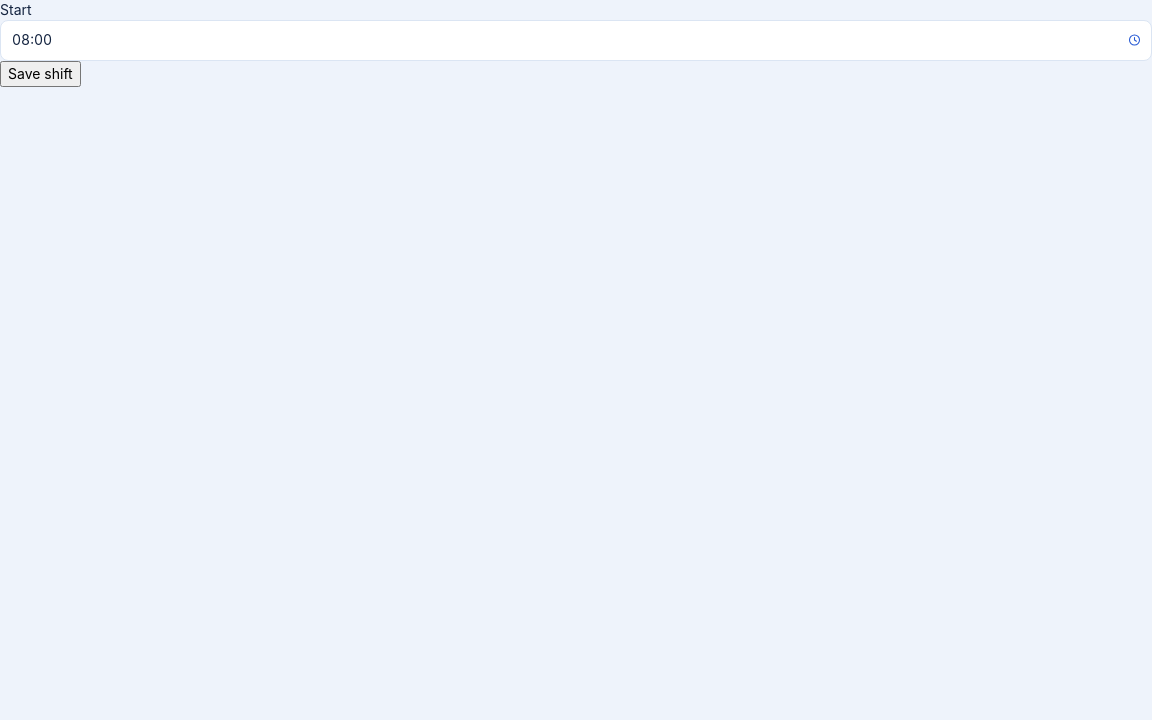
Test: themed time picker › stages an exact hour and minute using the keyboard and commits with Set time
The width and height of the screenshot is (1152, 720).
Press ArrowDown in the field labelled "Start", box [0,20,1151,61]
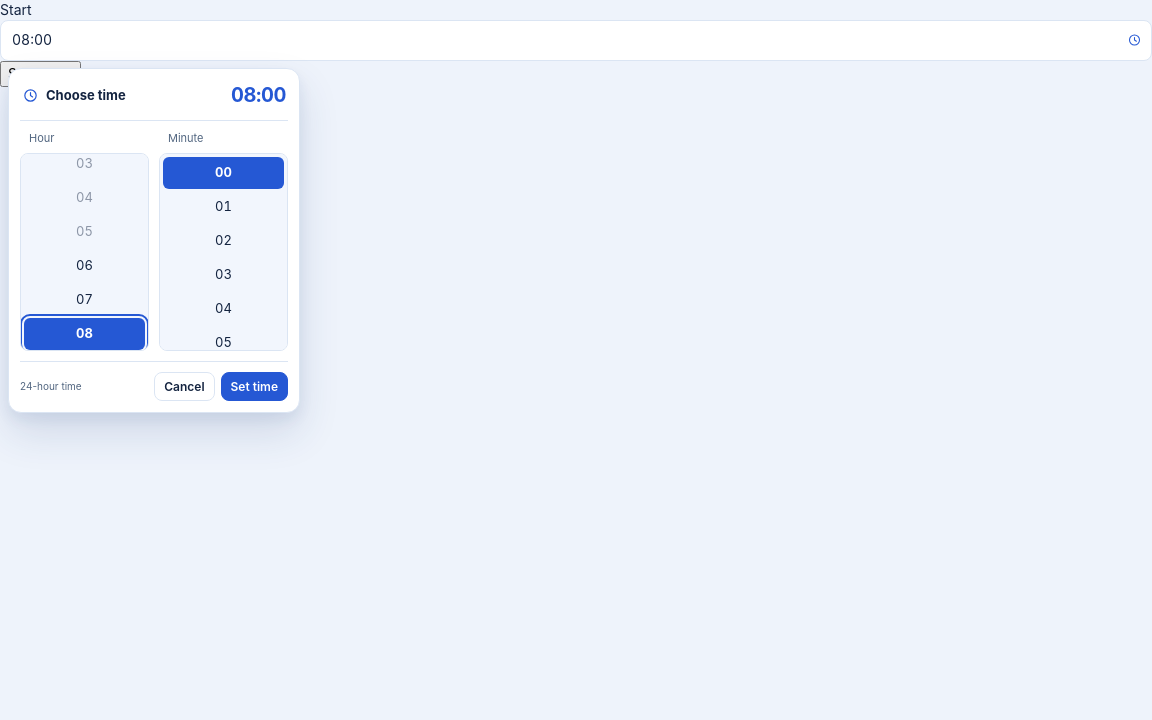
Press ArrowDown in the option "08", box [24,318,145,350]
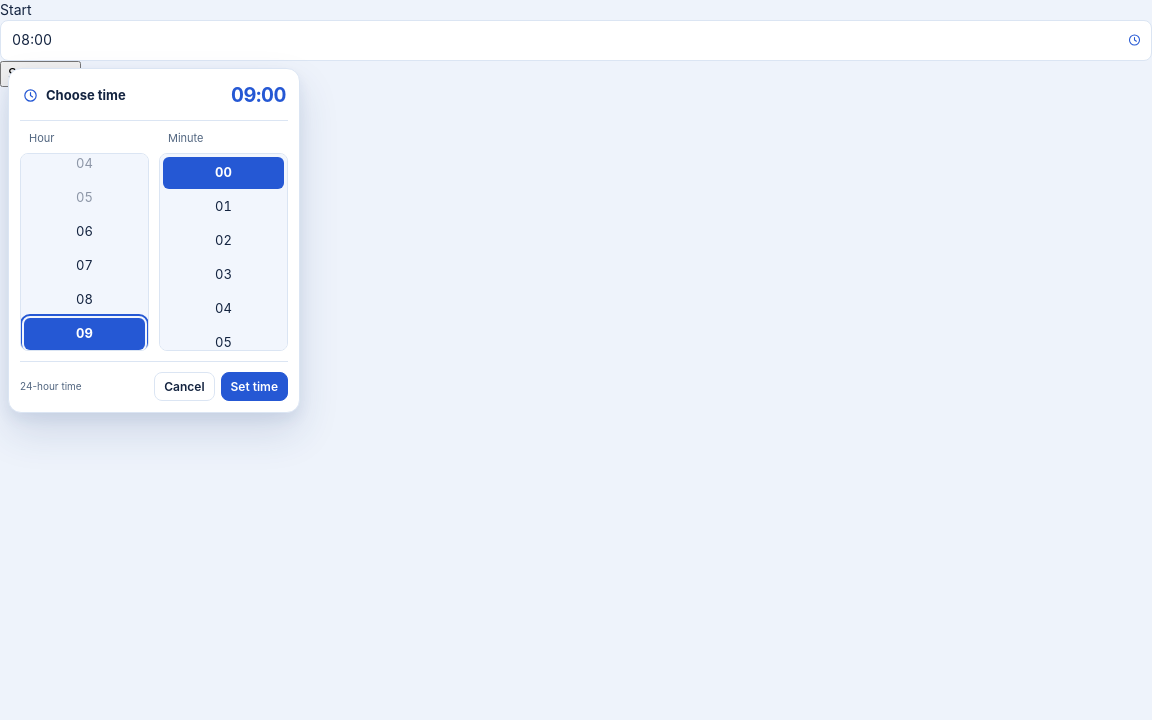
Press ArrowRight in the option "09", box [24,318,145,350]
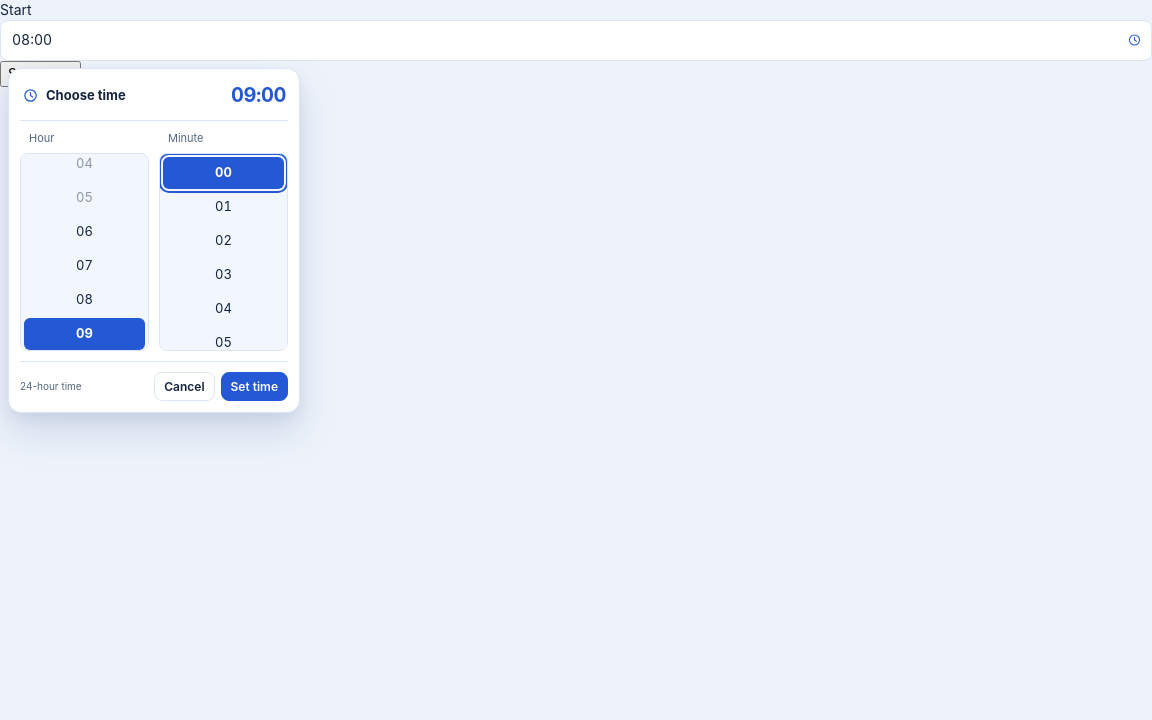
Press End in the option "00", box [163,156,284,188]
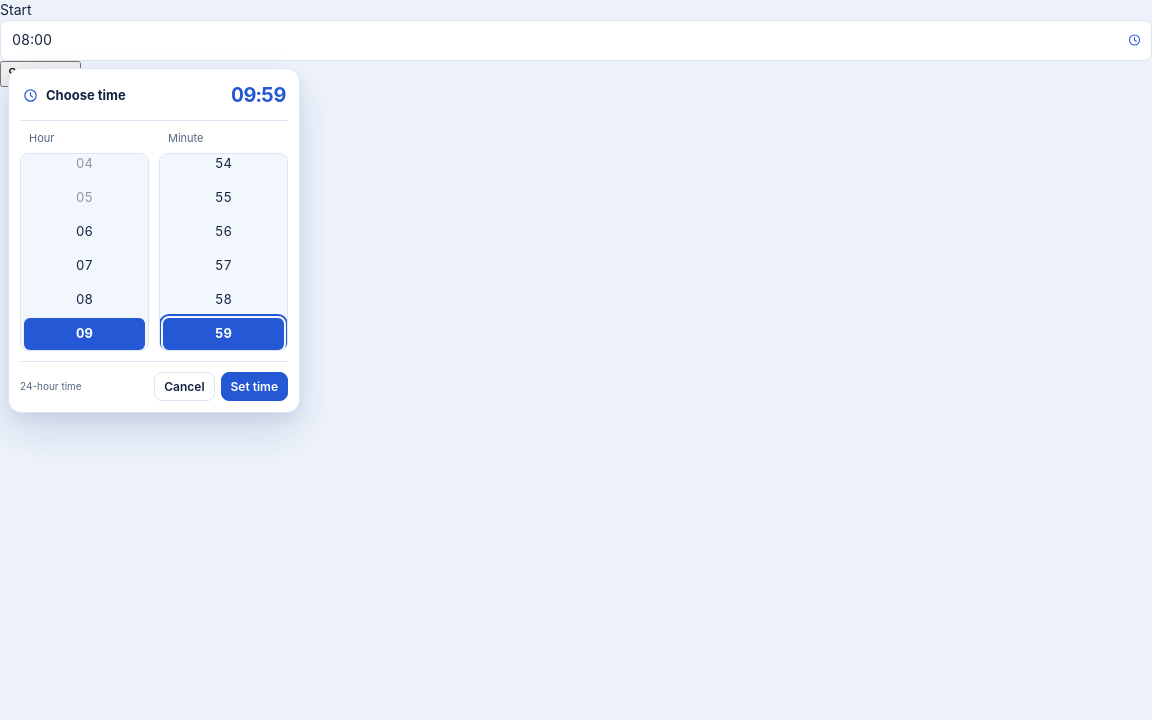
Expected: the field labelled "Start" holds "08:00", [0,20,1151,61]
Click the button "Set time" at {"x": 254, "y": 386}, box [221,372,288,401]
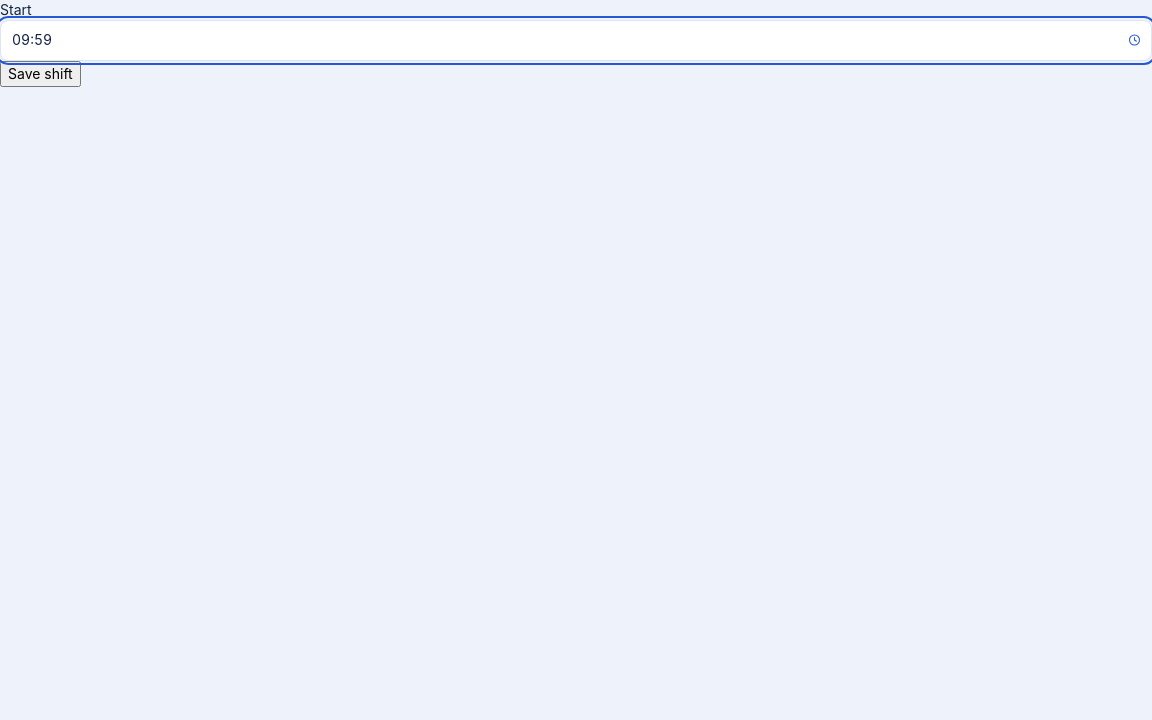
Expected: the field labelled "Start" holds "09:59", [0,20,1151,61]
Expected: the dialog is gone
